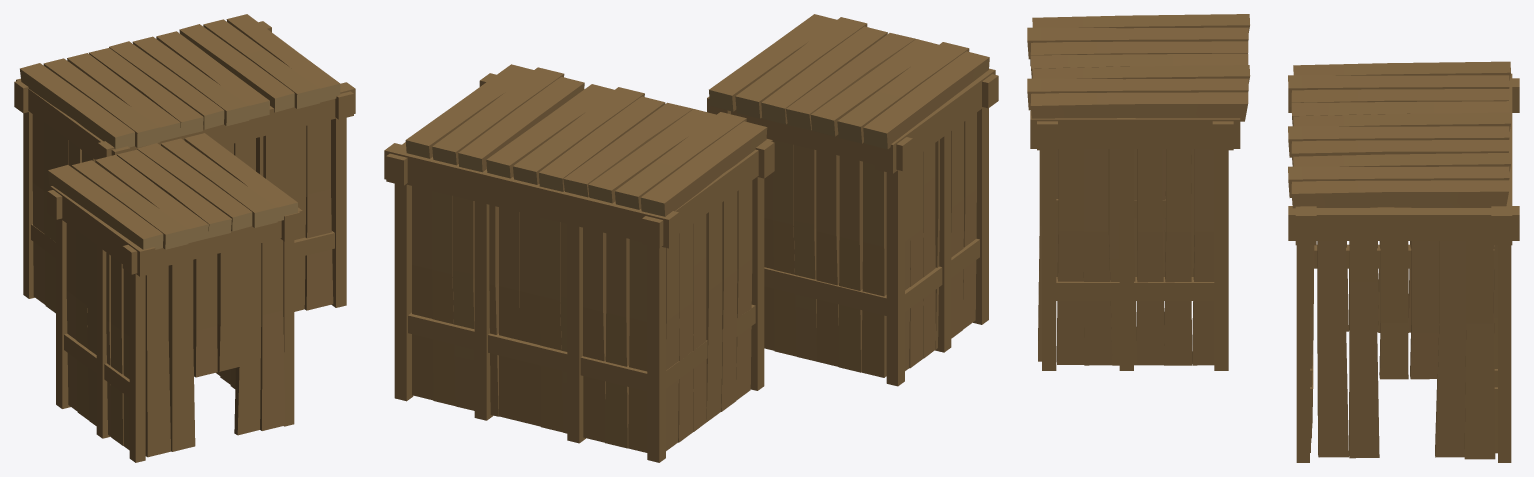
The model's file is Shack001.fbx.
3 views of the same model, side by side, from view 1: azimuth 30°, elevation 25°; view 2: azimuth 150°, elevation 25°; view 3: azimuth 270°, elevation 25° (orthographic). The views are drawn at different scales.
Parts seen in each view (by area): view 1: Houses_FirstAge_3_Level3; view 2: Houses_FirstAge_3_Level3; view 3: Houses_FirstAge_3_Level3.
Part boxes in pixels (x1,y1,x2,y2): Houses_FirstAge_3_Level3: [14, 14, 355, 462]; Houses_FirstAge_3_Level3: [384, 14, 998, 462]; Houses_FirstAge_3_Level3: [1027, 14, 1519, 462].
Bounding box in the file's own units: 1321 × 861 × 1439.
